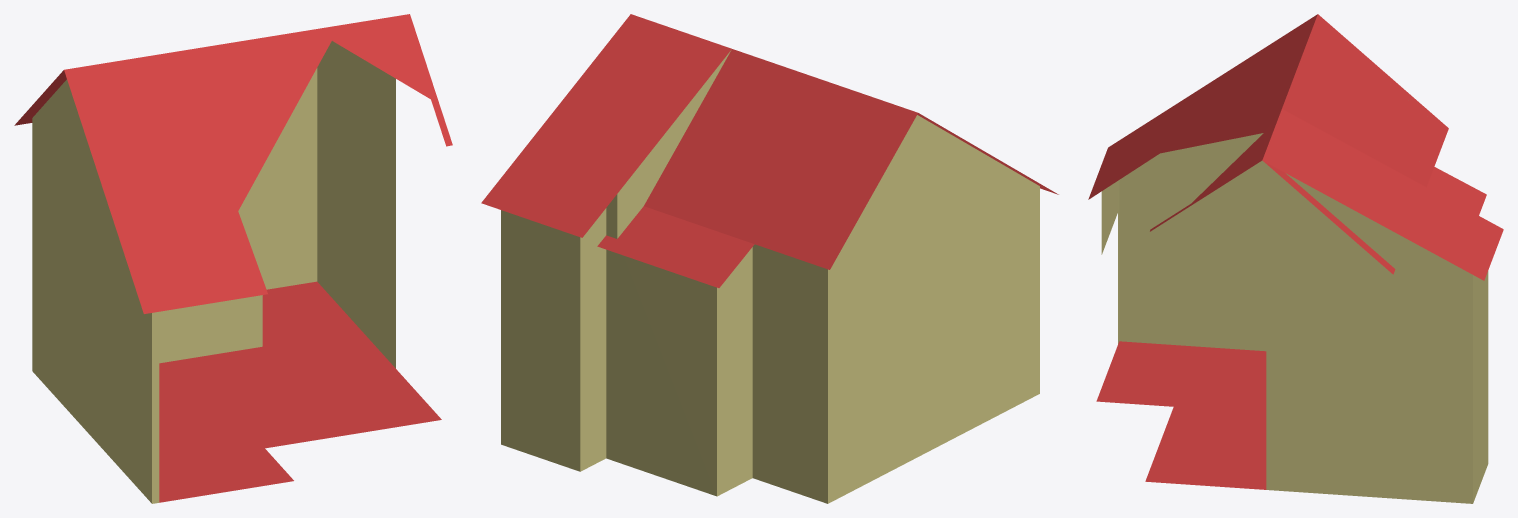
The picture shows the model from 3 angles, left to right: view 1: azimuth 30°, elevation 25°; view 2: azimuth 150°, elevation 25°; view 3: azimuth 270°, elevation 25°; orthographic projection. The views are drawn at different scales.
Bounding box in the file's own units: 15.42 × 15.41 × 13.7.
